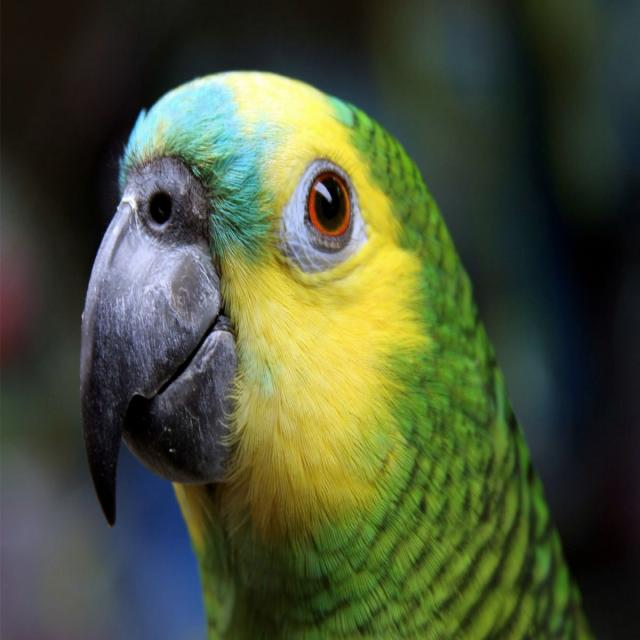parrot: (80, 72, 592, 639)
